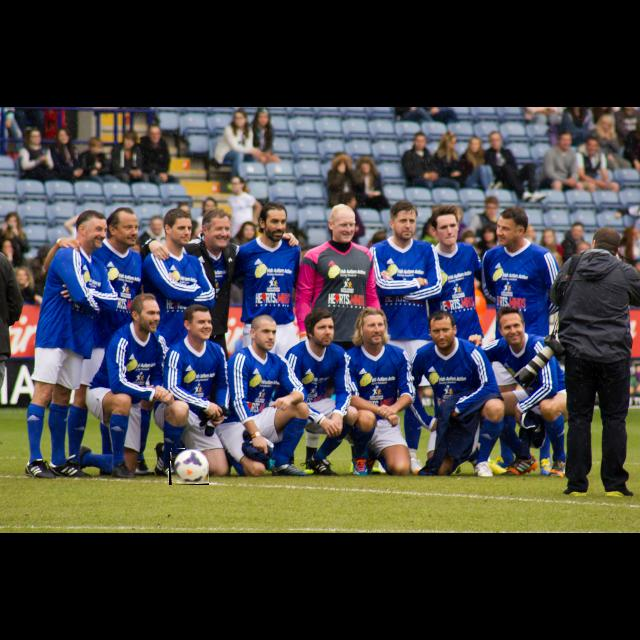Football: (169, 449, 209, 485)
